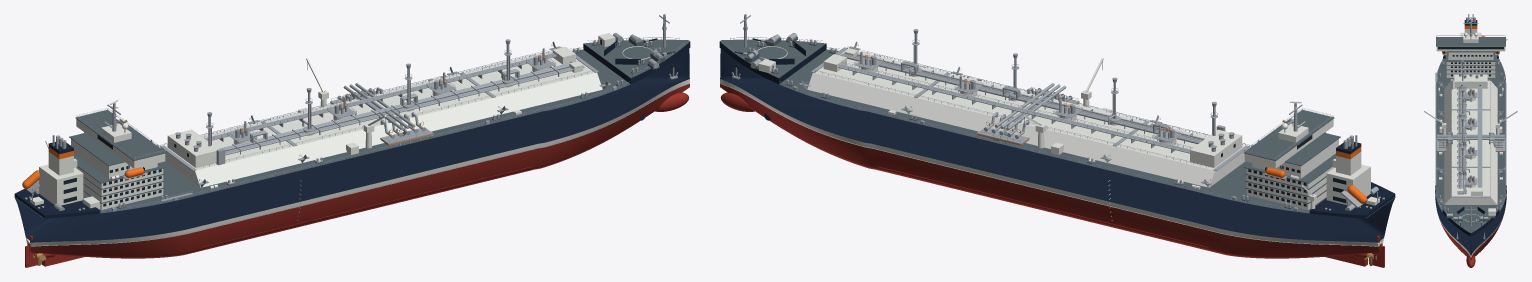
The model's file is hanwha-ocean-lngc-174k.glb.
3 views of the same model, side by side, from view 1: azimuth 30°, elevation 25°; view 2: azimuth 150°, elevation 25°; view 3: azimuth 270°, elevation 25° (orthographic). The views are drawn at different scales.
Visible parts, largest first — view 1: hull_topside, trunk_deck, hull_underwater, main_deck, hull_boottop, accommodation_A_deck_1743, forecastle_deck, bridge_deck_slab_1751, catwalk_1229, engine_casing_1944, cargo_machinery_room_1600, aft_bulwark (+12 smaller); view 2: hull_topside, trunk_deck, hull_underwater, main_deck, hull_boottop, catwalk_1229, accommodation_A_deck_1743, forecastle_deck, bridge_deck_slab_1751, cargo_machinery_room_1600, aft_bulwark, engine_casing_1944 (+10 smaller); view 3: trunk_deck, main_deck, hull_topside, bridge_deck_slab_1751, accommodation_A_deck_1743, forecastle_deck, catwalk_1229, cargo_machinery_room_1600, accommodation_upper_1744, hull_underwater, navigation_bridge_1745, forecastle (+22 smaller).
Part boxes in pixels (box(x1,y1,x2,y2)): hull_topside: box(14, 48, 689, 242); trunk_deck: box(160, 51, 602, 187); hull_underwater: box(27, 84, 689, 258); main_deck: box(15, 49, 630, 218); hull_boottop: box(26, 79, 689, 246); accommodation_A_deck_1743: box(76, 166, 163, 209); forecastle_deck: box(583, 39, 689, 77); bridge_deck_slab_1751: box(75, 109, 166, 160); catwalk_1229: box(204, 53, 556, 140); engine_casing_1944: box(39, 164, 83, 205); cargo_machinery_room_1600: box(167, 129, 218, 167); aft_bulwark: box(14, 188, 100, 218); hull_topside: box(720, 48, 1395, 242); trunk_deck: box(807, 49, 1249, 187); hull_underwater: box(720, 84, 1382, 258); main_deck: box(779, 49, 1394, 218); hull_boottop: box(720, 79, 1383, 246); catwalk_1229: box(837, 64, 1190, 153); accommodation_A_deck_1743: box(1246, 166, 1333, 209); forecastle_deck: box(720, 39, 826, 77); bridge_deck_slab_1751: box(1243, 109, 1334, 160); cargo_machinery_room_1600: box(1190, 129, 1242, 167); aft_bulwark: box(1309, 182, 1395, 218); engine_casing_1944: box(1326, 164, 1370, 205); trunk_deck: box(1444, 81, 1497, 204); main_deck: box(1435, 58, 1506, 211); hull_topside: box(1435, 185, 1506, 255); bridge_deck_slab_1751: box(1436, 37, 1505, 46); accommodation_A_deck_1743: box(1446, 62, 1495, 77); forecastle_deck: box(1443, 209, 1498, 232); catwalk_1229: box(1478, 86, 1482, 187); cargo_machinery_room_1600: box(1454, 74, 1487, 88); accommodation_upper_1744: box(1448, 52, 1493, 59); hull_underwater: box(1440, 221, 1501, 260); navigation_bridge_1745: box(1436, 46, 1505, 51); forecastle: box(1442, 209, 1499, 236).
Bounding box in the file's own units: 301 × 63.37 × 61.85.
